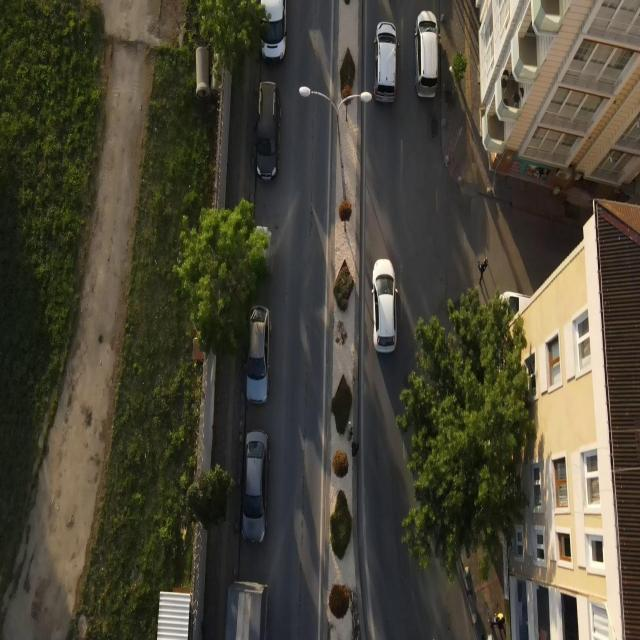p3rson: (476, 254, 489, 286), (488, 612, 499, 631), (346, 423, 353, 442), (352, 441, 359, 460)
